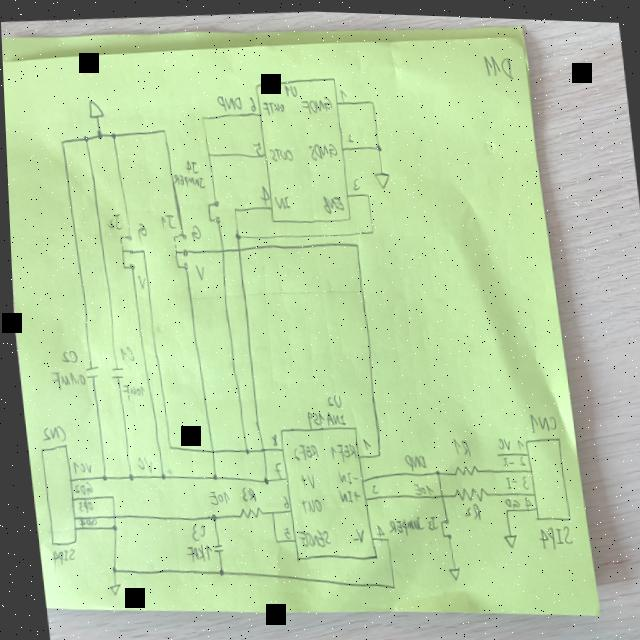capacitor: (80, 362, 98, 378), (106, 364, 123, 379), (208, 541, 219, 554)
crossover: (254, 443, 263, 451), (233, 244, 241, 252), (205, 445, 212, 453), (217, 245, 224, 253), (106, 512, 113, 520), (434, 488, 441, 496)
ground: (371, 167, 389, 187), (442, 559, 458, 579), (498, 528, 514, 546), (102, 580, 118, 596)
junction: (257, 473, 267, 484), (204, 510, 214, 521), (94, 129, 103, 140), (95, 472, 104, 481), (373, 139, 381, 149), (212, 565, 220, 574), (108, 130, 116, 139), (232, 230, 240, 238), (430, 465, 438, 473), (122, 472, 130, 480), (162, 441, 170, 449), (351, 238, 358, 247), (240, 444, 247, 453), (265, 508, 271, 518), (105, 565, 112, 573), (81, 134, 88, 142), (384, 580, 391, 588), (58, 138, 65, 146), (367, 225, 374, 233), (207, 471, 214, 479), (160, 125, 167, 133), (155, 472, 162, 480), (368, 95, 375, 103), (106, 523, 113, 531), (268, 534, 275, 542), (138, 246, 144, 254), (370, 448, 377, 454), (105, 492, 110, 500), (199, 112, 204, 119), (205, 149, 210, 156), (231, 205, 236, 211), (500, 504, 505, 510), (364, 189, 368, 196), (381, 534, 385, 539)
resistor: (449, 480, 483, 500), (232, 502, 259, 519), (448, 459, 476, 475)
source: (86, 97, 104, 118)
switch: (167, 229, 190, 272), (114, 232, 134, 270), (203, 196, 221, 223), (435, 514, 447, 537)
terminal: (35, 442, 76, 547), (521, 431, 568, 518)
text: (531, 518, 570, 548), (303, 405, 343, 427), (382, 512, 420, 535), (47, 368, 83, 392), (43, 546, 74, 573), (292, 524, 327, 546), (525, 406, 554, 431), (299, 92, 333, 113), (181, 539, 209, 564), (171, 170, 205, 189), (307, 139, 337, 160), (326, 439, 354, 461), (215, 90, 243, 111), (288, 439, 315, 460), (117, 381, 143, 402), (399, 449, 423, 469), (320, 192, 344, 212), (37, 423, 62, 442), (267, 143, 292, 161), (333, 484, 357, 502), (448, 432, 467, 454), (294, 495, 318, 512), (458, 498, 477, 519), (261, 97, 284, 114), (321, 387, 339, 407), (204, 488, 226, 504), (408, 477, 430, 493), (185, 520, 202, 540), (132, 453, 149, 473), (333, 467, 355, 482), (158, 211, 175, 229), (116, 343, 133, 361), (103, 212, 121, 229), (236, 483, 252, 502), (56, 348, 76, 363), (133, 220, 146, 243), (295, 470, 311, 488), (272, 192, 289, 208), (257, 182, 269, 204), (182, 157, 198, 173), (498, 471, 515, 486), (74, 480, 89, 496), (421, 511, 435, 528), (496, 451, 513, 465), (188, 221, 199, 242), (492, 432, 507, 447), (283, 80, 297, 96), (347, 525, 361, 541), (500, 493, 517, 506), (370, 521, 381, 540), (268, 458, 279, 477), (192, 262, 204, 279), (517, 491, 528, 509), (75, 459, 88, 474), (252, 137, 262, 156), (337, 83, 347, 101), (78, 498, 89, 514), (511, 433, 522, 449), (80, 515, 93, 528), (135, 272, 144, 289), (516, 470, 525, 487), (349, 174, 359, 189), (66, 460, 76, 475), (513, 450, 522, 464), (277, 493, 285, 507), (345, 131, 354, 142), (248, 95, 255, 109), (74, 516, 81, 530), (68, 482, 76, 494), (357, 434, 365, 446), (267, 431, 274, 444), (73, 499, 79, 513), (278, 523, 285, 535), (367, 481, 374, 491)
